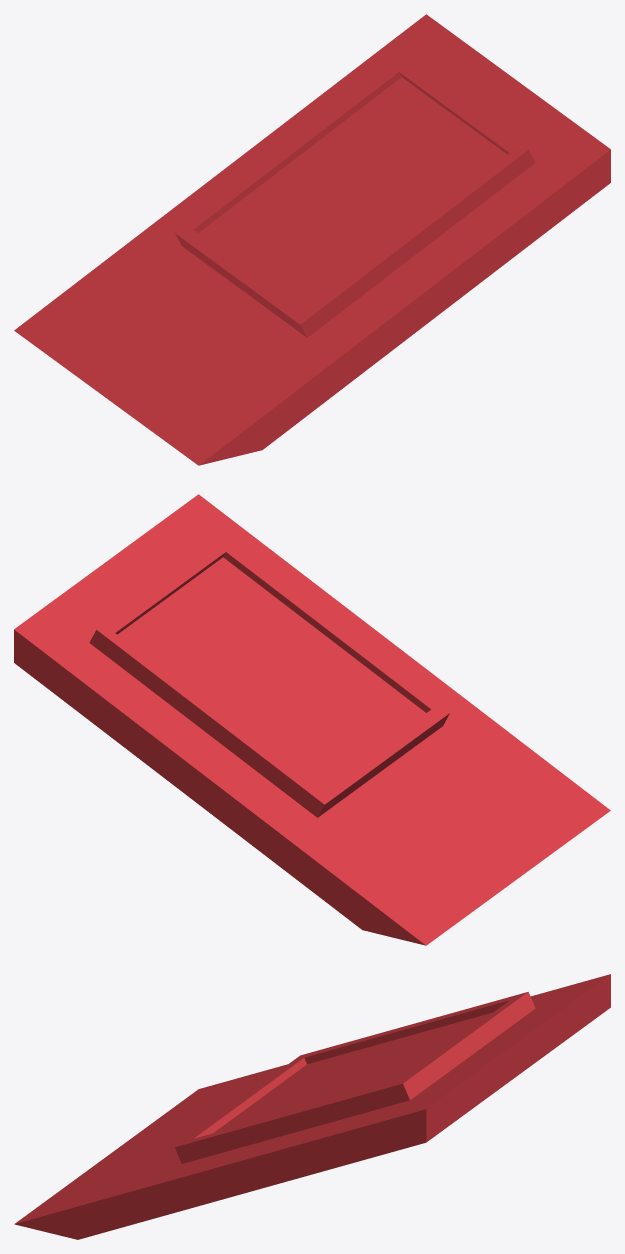
Rendered from roof_small_skylight_2.glb.
3 renders of one model, top to bottom at view 1: azimuth 30°, elevation 25°; view 2: azimuth 150°, elevation 25°; view 3: azimuth 330°, elevation 25°, orthographic.
Visible parts, largest first — view 1: roof_small_skylight_2; view 2: roof_small_skylight_2; view 3: roof_small_skylight_2.
Boxes of the visible parts, x1=… form: roof_small_skylight_2: x1=14, y1=14, x2=610, y2=465; roof_small_skylight_2: x1=14, y1=494, x2=610, y2=945; roof_small_skylight_2: x1=14, y1=974, x2=610, y2=1239.
Size of the model in its own units: 1.29 by 0.6447 by 1.
